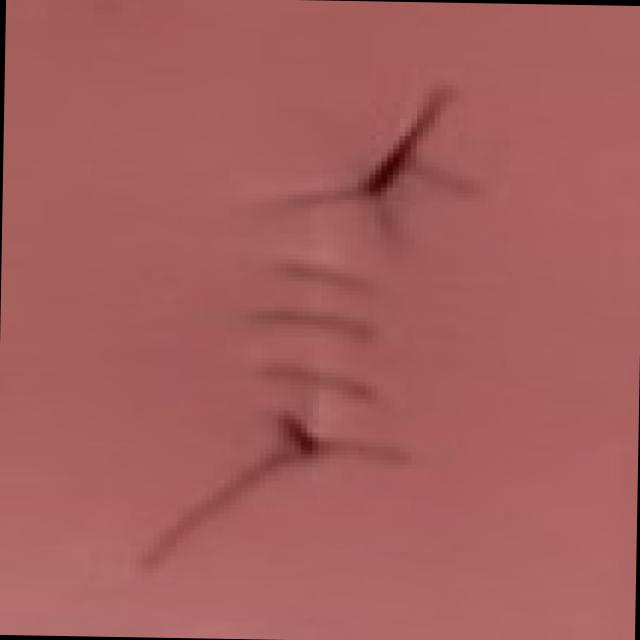suture: (141, 415, 411, 570), (281, 89, 479, 211), (256, 310, 378, 347), (267, 368, 383, 403), (280, 263, 373, 294)
